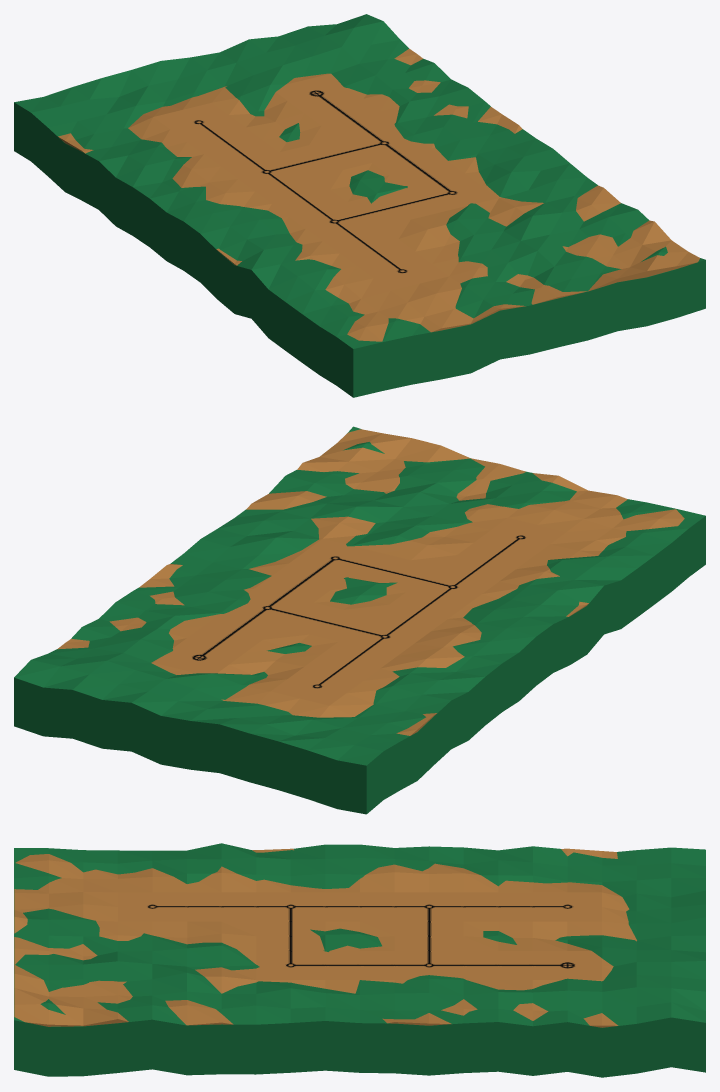
The model's file is Nivell2.FBX.
3 views of the same model, one above another, from view 1: azimuth 30°, elevation 25°; view 2: azimuth 150°, elevation 25°; view 3: azimuth 270°, elevation 25° (orthographic).
Visible parts, largest first — view 1: Object001; view 2: Object001; view 3: Object001.
Part boxes in pixels (x1=…): Object001: x1=14, y1=14, x2=705, y2=397; Object001: x1=14, y1=426, x2=705, y2=814; Object001: x1=14, y1=843, x2=705, y2=1077.
Size of the model in its own units: 5.91 by 0.9754 by 9.85.
